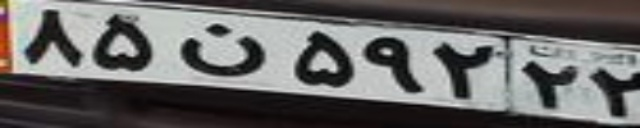2: (430, 41, 498, 99), (520, 61, 578, 108), (587, 67, 639, 117)
5: (87, 16, 152, 71), (292, 29, 353, 86)
8: (18, 8, 80, 66)
9: (361, 35, 423, 93)
non: (175, 22, 264, 76)
